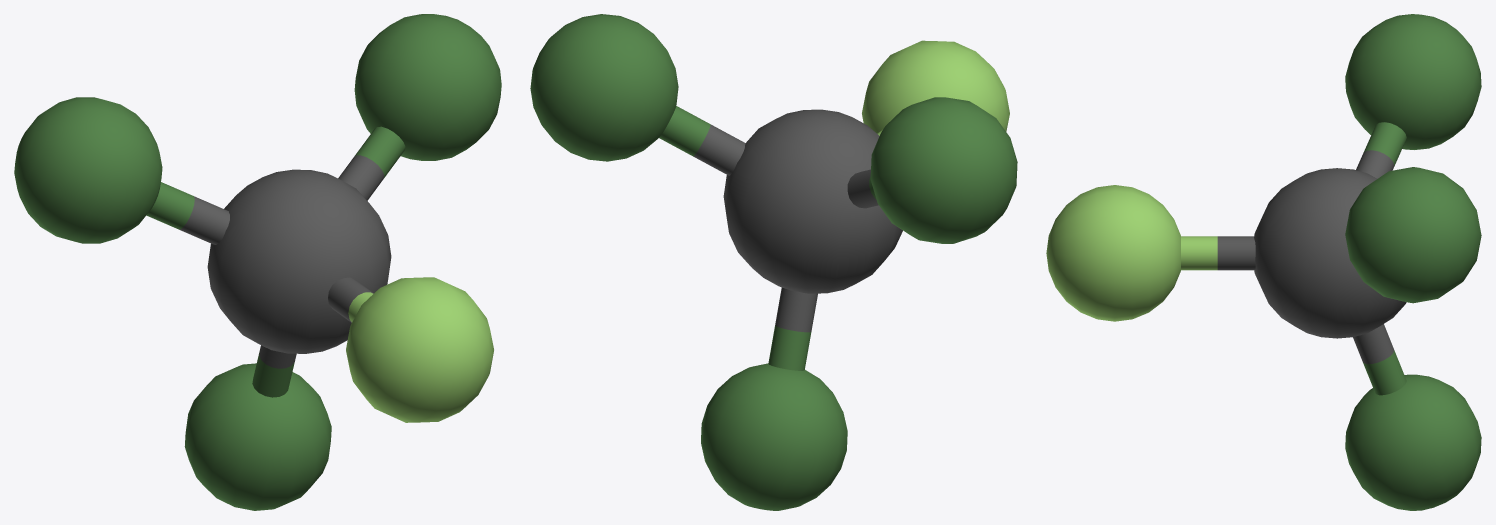
File: 05_Clorofluorocarbono.fbx
The picture shows the model from 3 angles, left to right: view 1: azimuth 30°, elevation 25°; view 2: azimuth 150°, elevation 25°; view 3: azimuth 270°, elevation 25°; orthographic projection. The views are drawn at different scales.
Visible parts, largest first — view 1: m_clorofuorocarburo; view 2: m_clorofuorocarburo; view 3: m_clorofuorocarburo.
Part boxes in pixels (bbox=[...]): m_clorofuorocarburo: bbox=[14, 14, 501, 510]; m_clorofuorocarburo: bbox=[530, 14, 1017, 510]; m_clorofuorocarburo: bbox=[1046, 14, 1481, 510].
Bounding box in the file's own units: 509 × 525 × 582.
